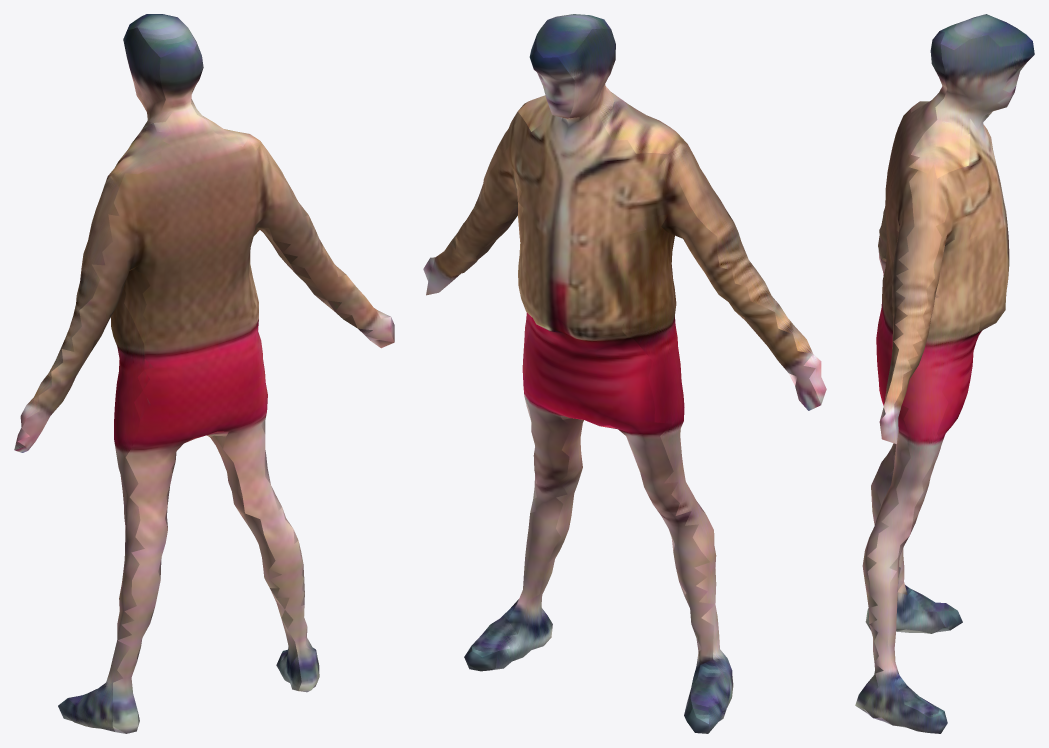
The picture shows the model from 3 angles, left to right: view 1: azimuth 30°, elevation 25°; view 2: azimuth 150°, elevation 25°; view 3: azimuth 270°, elevation 25°; orthographic projection. The views are drawn at different scales.
Parts seen in each view (by area): view 1: world; view 2: world; view 3: world.
Part boxes in pixels (x1=…): world: x1=14, y1=14, x2=394, y2=733; world: x1=423, y1=14, x2=826, y2=733; world: x1=855, y1=14, x2=1034, y2=733.
Size of the model in its own units: 0.6062 by 1.01 by 0.2496.
1 material, 1 textured.
